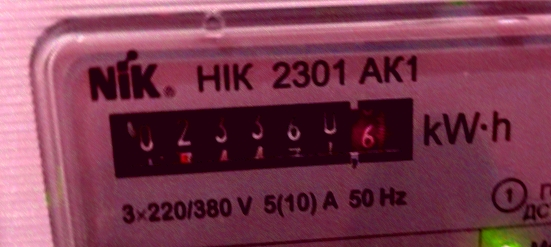0: (134, 119, 156, 153), (317, 105, 339, 137)
2: (173, 114, 193, 147)
3: (247, 107, 266, 140), (209, 113, 228, 144)
6: (282, 109, 303, 142), (357, 119, 378, 152)
screen: (92, 88, 430, 184)
